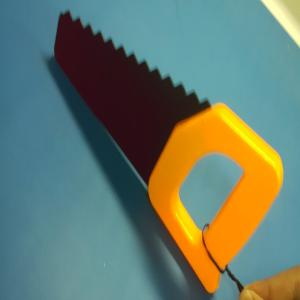serrote: (53, 7, 286, 298)
